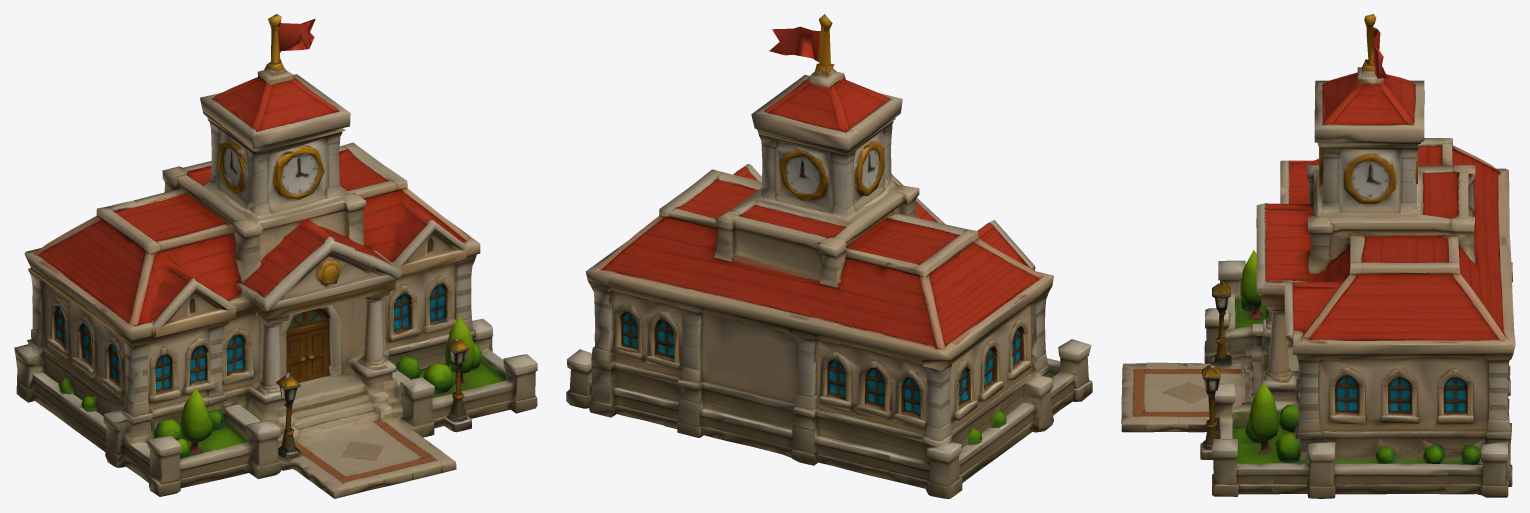
File: town_hall_stage2.glb
3 renders of one model, left to right at view 1: azimuth 30°, elevation 25°; view 2: azimuth 150°, elevation 25°; view 3: azimuth 270°, elevation 25°, orthographic. The views are drawn at different scales.
Visible parts, largest first — view 1: tripo_node_41841b22-a98a-4c67-8c69-97aeec8cd7ba; view 2: tripo_node_41841b22-a98a-4c67-8c69-97aeec8cd7ba; view 3: tripo_node_41841b22-a98a-4c67-8c69-97aeec8cd7ba.
Part boxes in pixels (x1,y1,x2,y2): tripo_node_41841b22-a98a-4c67-8c69-97aeec8cd7ba: (14, 14, 537, 498); tripo_node_41841b22-a98a-4c67-8c69-97aeec8cd7ba: (566, 14, 1092, 498); tripo_node_41841b22-a98a-4c67-8c69-97aeec8cd7ba: (1121, 14, 1515, 498).
Size of the model in its own units: 1 by 0.9543 by 0.8723.
Materials: 1 (1 with a texture image).
